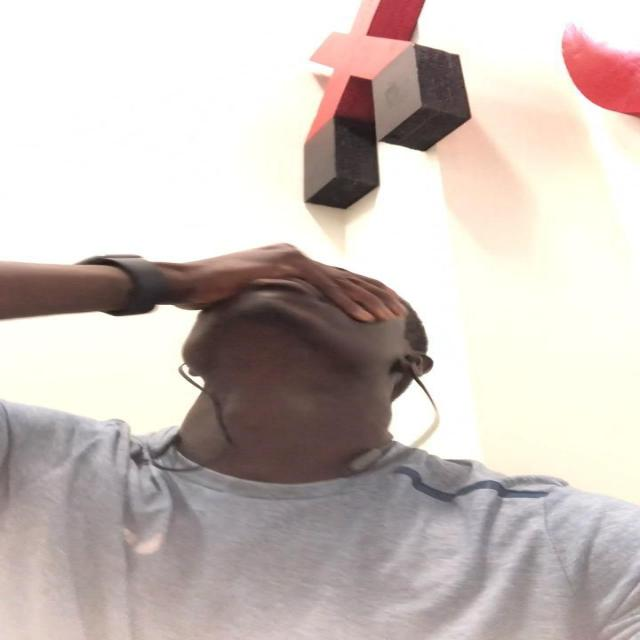face: (187, 267, 408, 383)
